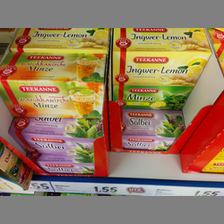tea: (1, 51, 105, 119), (112, 28, 213, 84), (8, 118, 103, 159), (119, 109, 186, 150)
